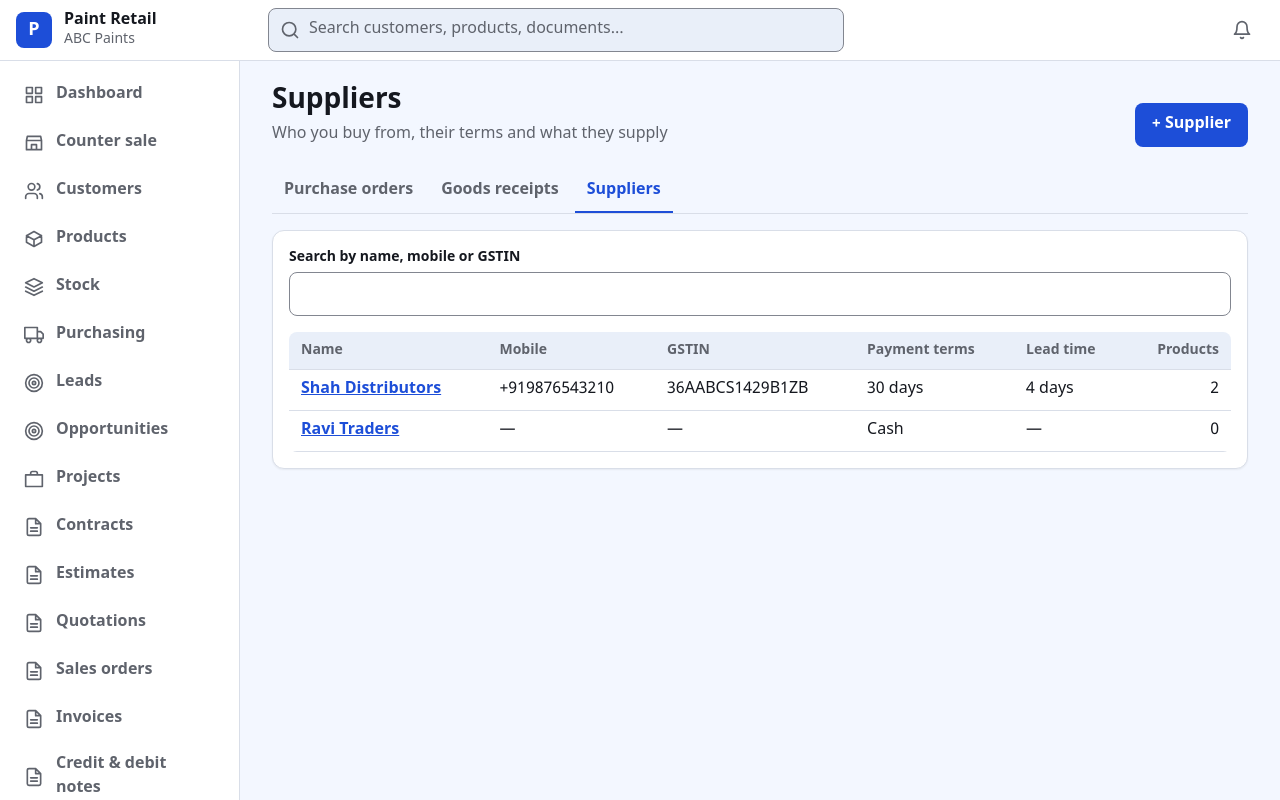
Test: SuppliersPage › adds a supplier with only a name, and shows a duplicate from the API
Step 1. Click the button "+ Supplier" → (1191, 125), box [1135, 103, 1248, 147]
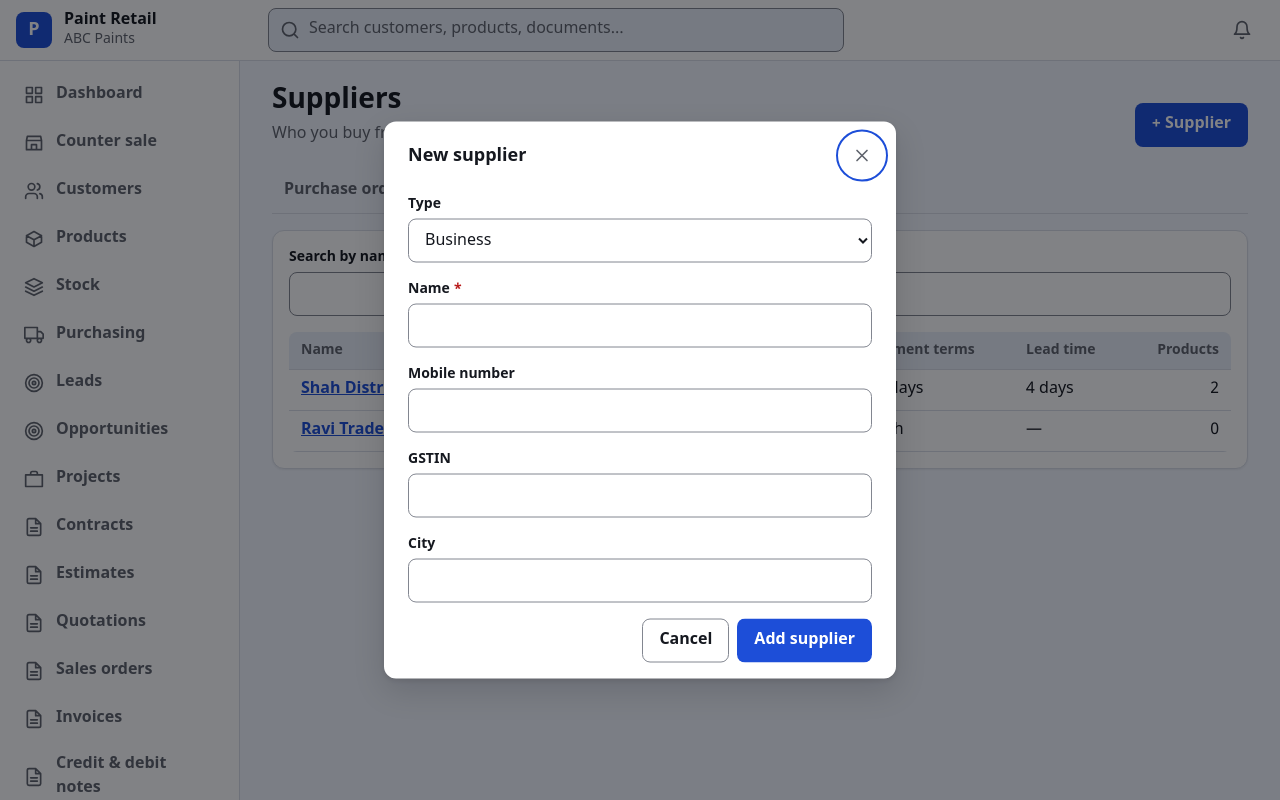
Step 2. Select "Business" in the dropdown labelled "Type" → (640, 240), box [408, 218, 872, 262]
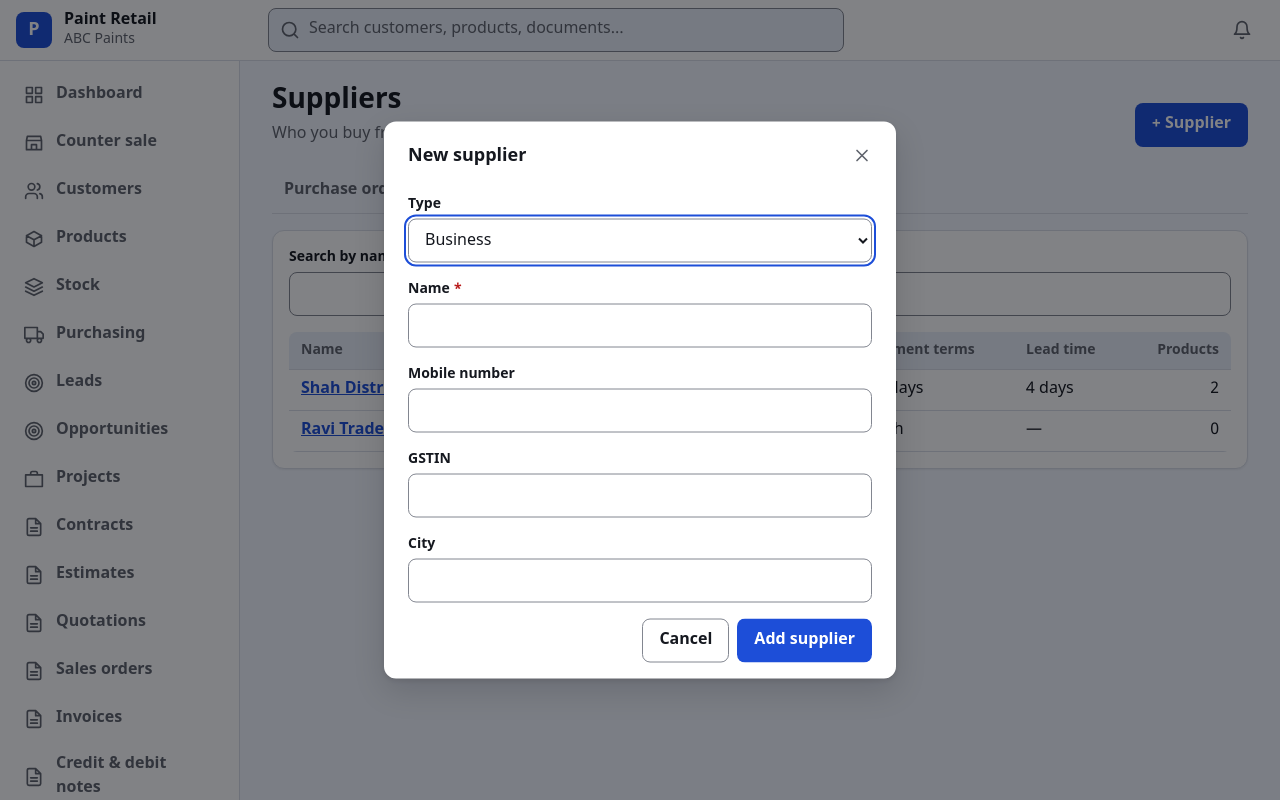
Step 3. Type "Ravi Traders" into the field labelled "Name *" → (640, 326), box [408, 304, 872, 348]
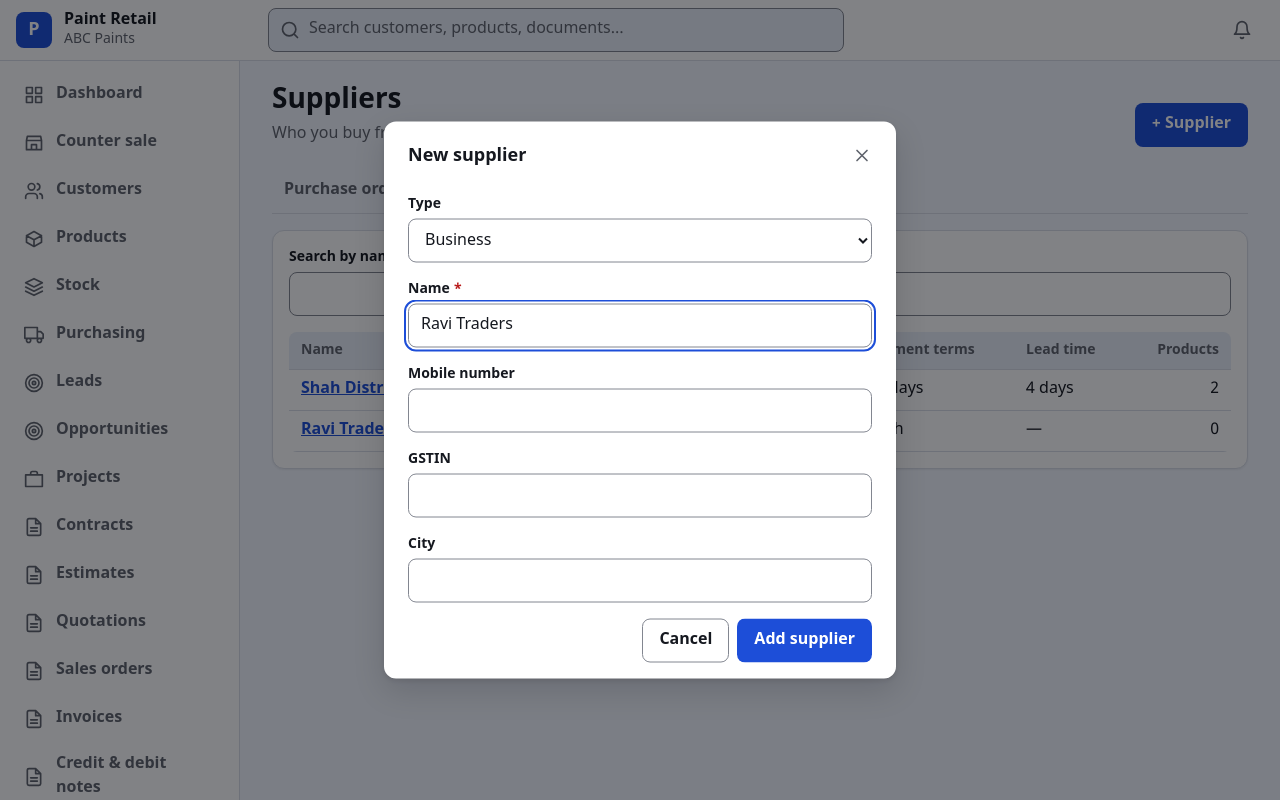
Step 4. Click the button "Add supplier" → (805, 640), box [737, 618, 872, 662]
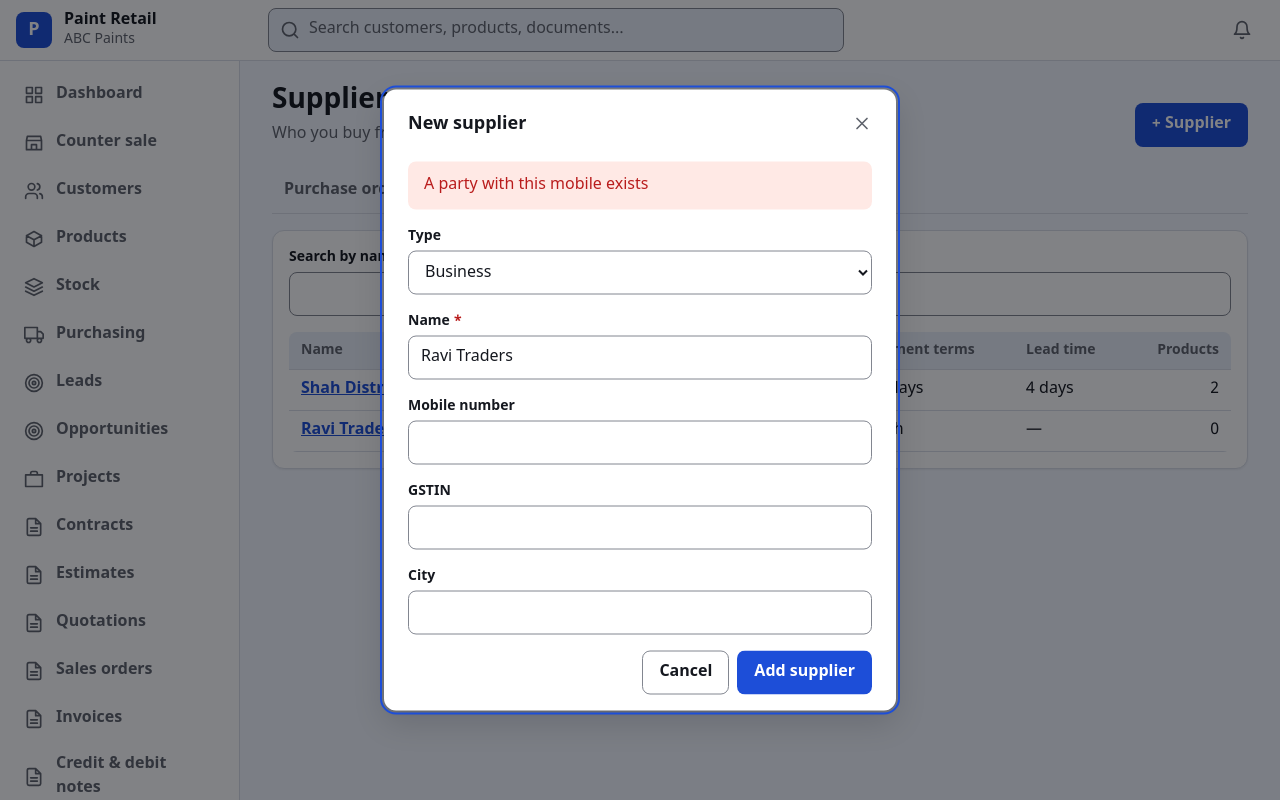
Check: the text "A party with this mobile exists" is shown, box [424, 174, 648, 198]
